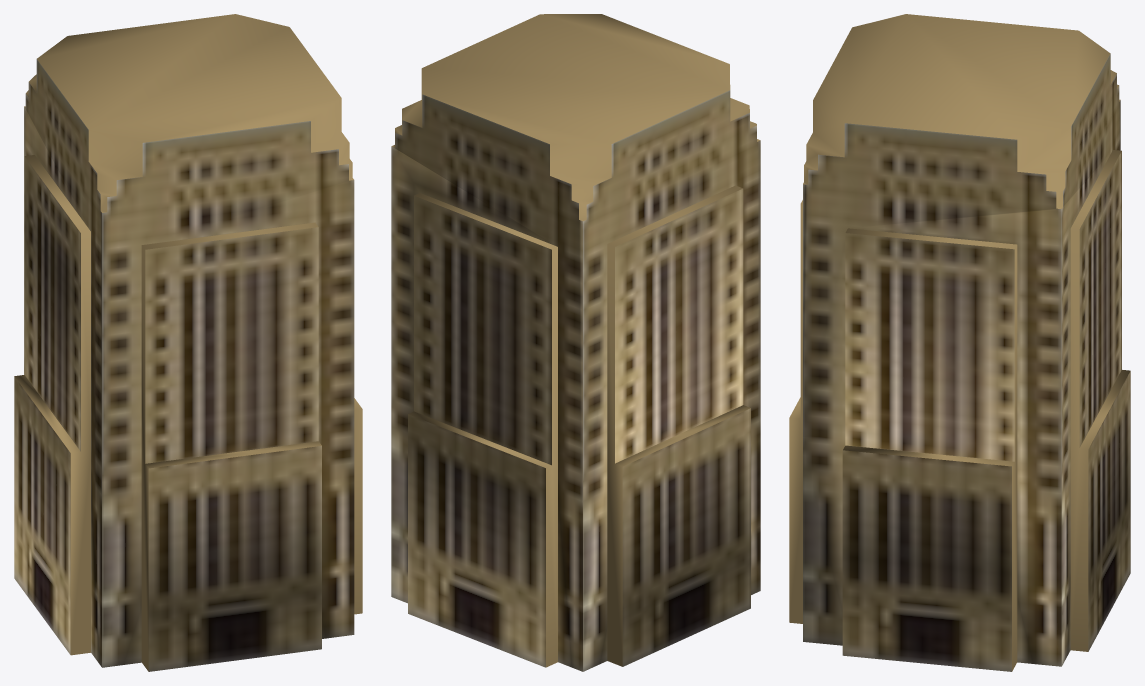
The model's file is boc_building.dae.
The picture shows the model from 3 angles, left to right: view 1: azimuth 30°, elevation 25°; view 2: azimuth 150°, elevation 25°; view 3: azimuth 270°, elevation 25°; orthographic projection.
Visible parts, largest first — view 1: _Beige_1, _Black_; view 2: _Beige_1, _Black_; view 3: _Beige_1, _Black_.
Part boxes in pixels (bbox=[...]): _Beige_1: bbox=[14, 59, 354, 671]; _Black_: bbox=[14, 14, 362, 671]; _Beige_1: bbox=[391, 90, 760, 671]; _Black_: bbox=[391, 14, 760, 667]; _Beige_1: bbox=[803, 53, 1130, 671]; _Black_: bbox=[789, 14, 1130, 671].
Size of the model in its own units: 44.2 by 44.02 by 74.36.
Materials: 2 (2 with a texture image).
